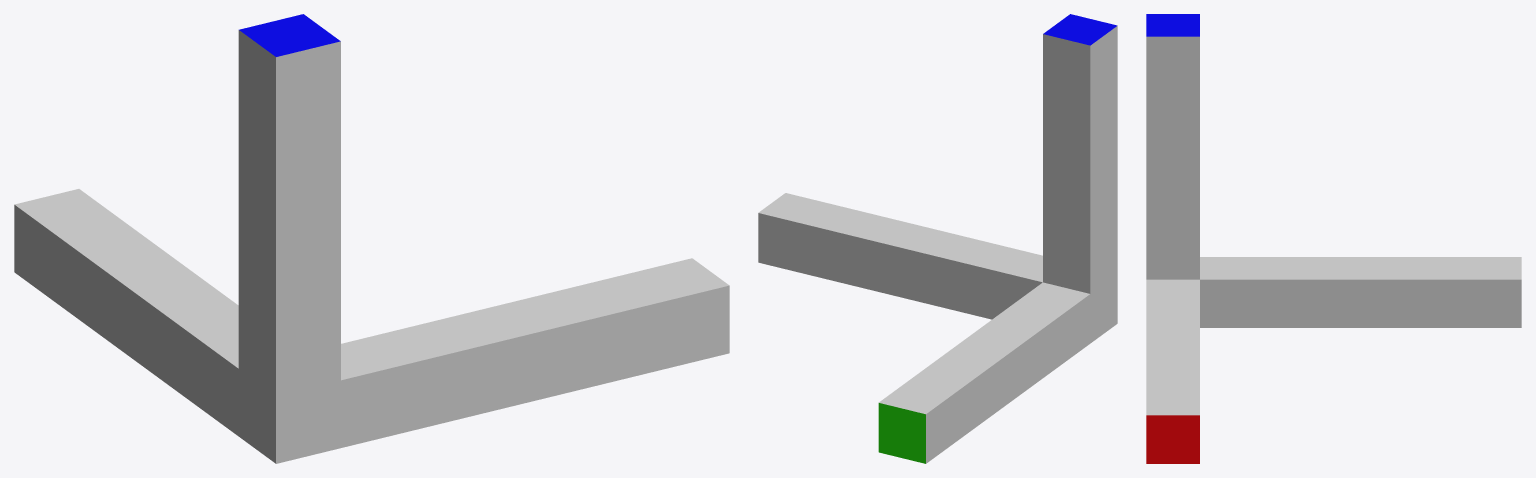
3 renders of one model, left to right at view 1: azimuth 30°, elevation 25°; view 2: azimuth 150°, elevation 25°; view 3: azimuth 270°, elevation 25°, orthographic. The views are drawn at different scales.
Visible parts, largest first — view 1: SketchUp (×2); view 2: SketchUp (×3); view 3: SketchUp (×3).
Boxes of the visible parts, x1=… form: SketchUp (×2): x1=14, y1=14, x2=729, y2=463; SketchUp (×3): x1=758, y1=14, x2=1117, y2=463; SketchUp (×3): x1=1146, y1=14, x2=1521, y2=463.
Bounding box in the file's own units: 27.56 × 27.56 × 23.62.
